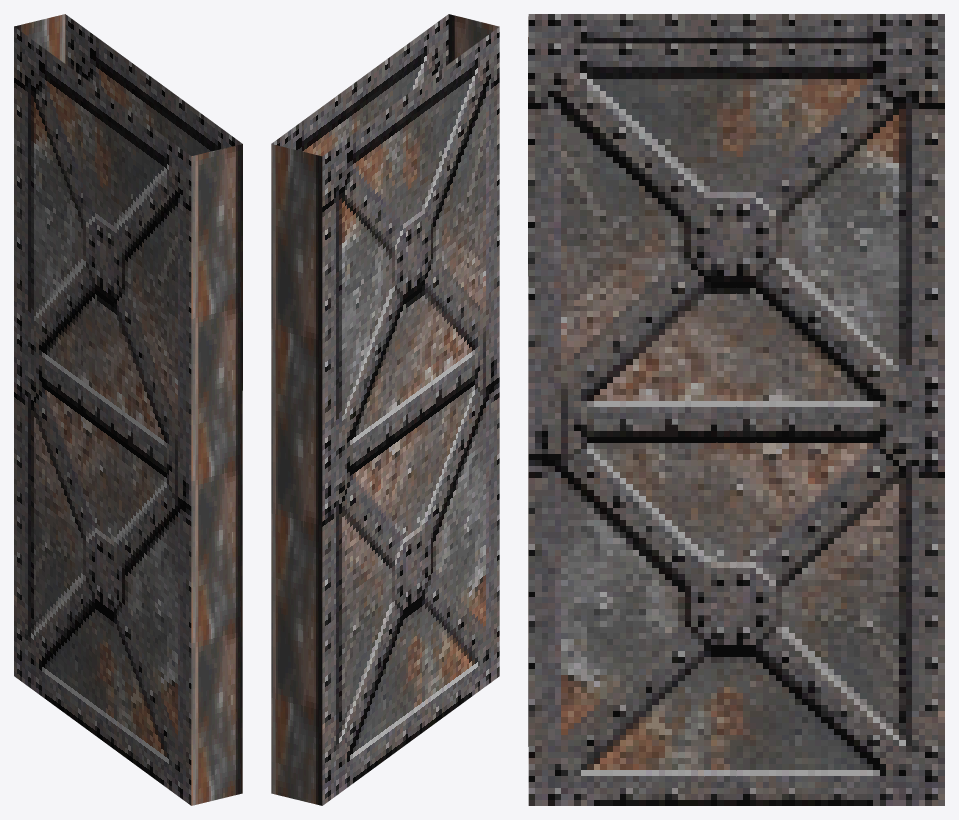
File: metal_door.glb
3 views of the same model, side by side, from view 1: azimuth 30°, elevation 25°; view 2: azimuth 150°, elevation 25°; view 3: azimuth 270°, elevation 25° (orthographic). The views are drawn at different scales.
Visible parts, largest first — view 1: Object; view 2: Object; view 3: Object.
Part boxes in pixels (<box>): Object: <box>14,14,242,805</box>; Object: <box>271,14,499,805</box>; Object: <box>528,14,944,805</box>.
Bounding box in the file's own units: 0.2009 × 2.43 × 1.21.
9 materials, 9 textured.
